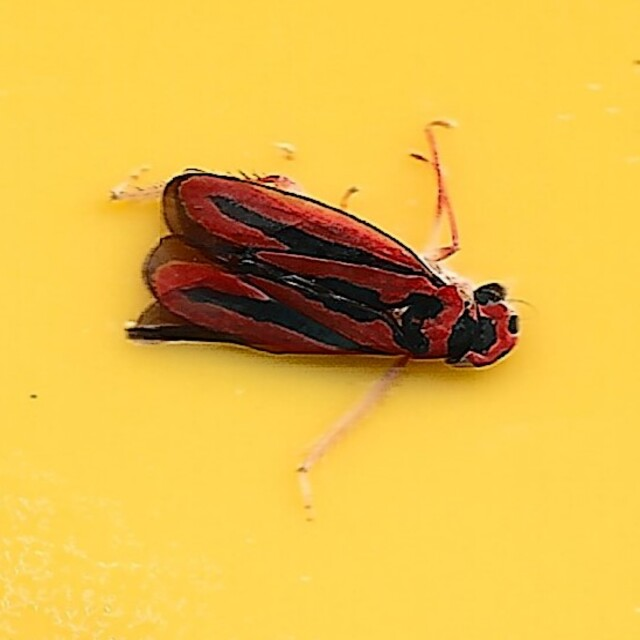Hemiptera: (117, 116, 523, 524)
